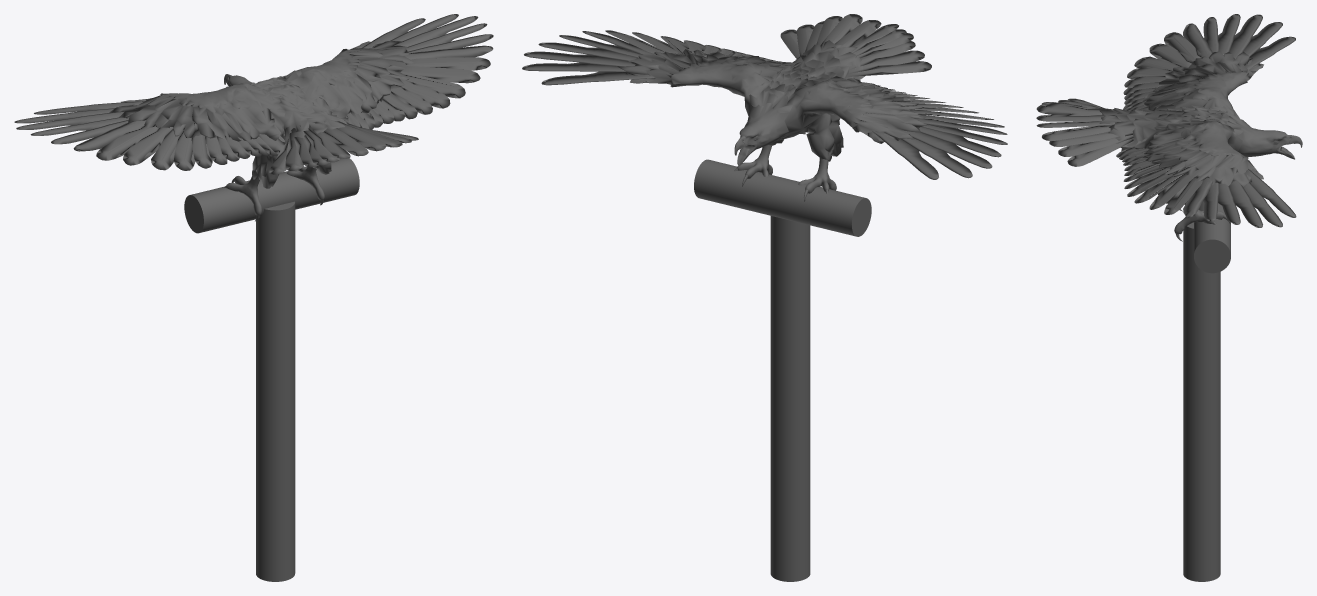
The model's file is stup.fbx.
The picture shows the model from 3 angles, left to right: view 1: azimuth 30°, elevation 25°; view 2: azimuth 150°, elevation 25°; view 3: azimuth 270°, elevation 25°; orthographic projection. The views are drawn at different scales.
Parts seen in each view (by area): view 1: wing2, Cylinder.2, Cylinder; view 2: wing2, Cylinder.2, Cylinder; view 3: wing2, Cylinder.2, Cylinder.
Part boxes in pixels (x1,y1,x2,y2): wing2: (14, 14, 493, 221); Cylinder.2: (256, 201, 295, 581); Cylinder: (184, 158, 359, 233); wing2: (522, 14, 1007, 201); Cylinder.2: (770, 216, 810, 581); Cylinder: (694, 159, 871, 236); wing2: (1036, 14, 1302, 241); Cylinder.2: (1183, 222, 1220, 581); Cylinder: (1194, 201, 1230, 273).
Size of the model in its own units: 609 by 623 by 321.
Materials: 1 (1 with a texture image).
